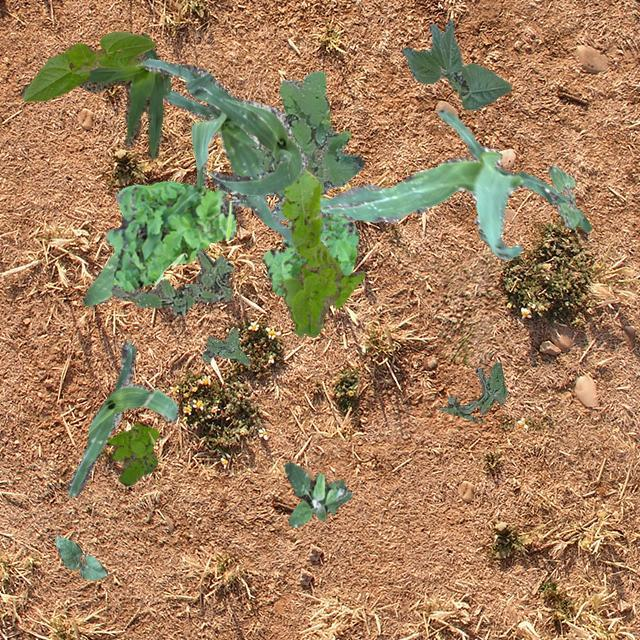crop: (318, 108, 590, 260), (135, 57, 307, 196), (162, 89, 292, 244), (19, 31, 170, 160), (66, 340, 178, 496), (400, 20, 510, 110), (22, 30, 154, 100), (54, 534, 106, 578), (548, 165, 582, 228), (82, 250, 120, 304)
weed: (230, 70, 364, 218), (104, 180, 236, 290), (280, 168, 364, 336), (262, 196, 358, 294), (110, 250, 232, 316), (282, 462, 352, 526), (438, 362, 507, 421), (104, 422, 158, 484), (202, 326, 248, 364)
